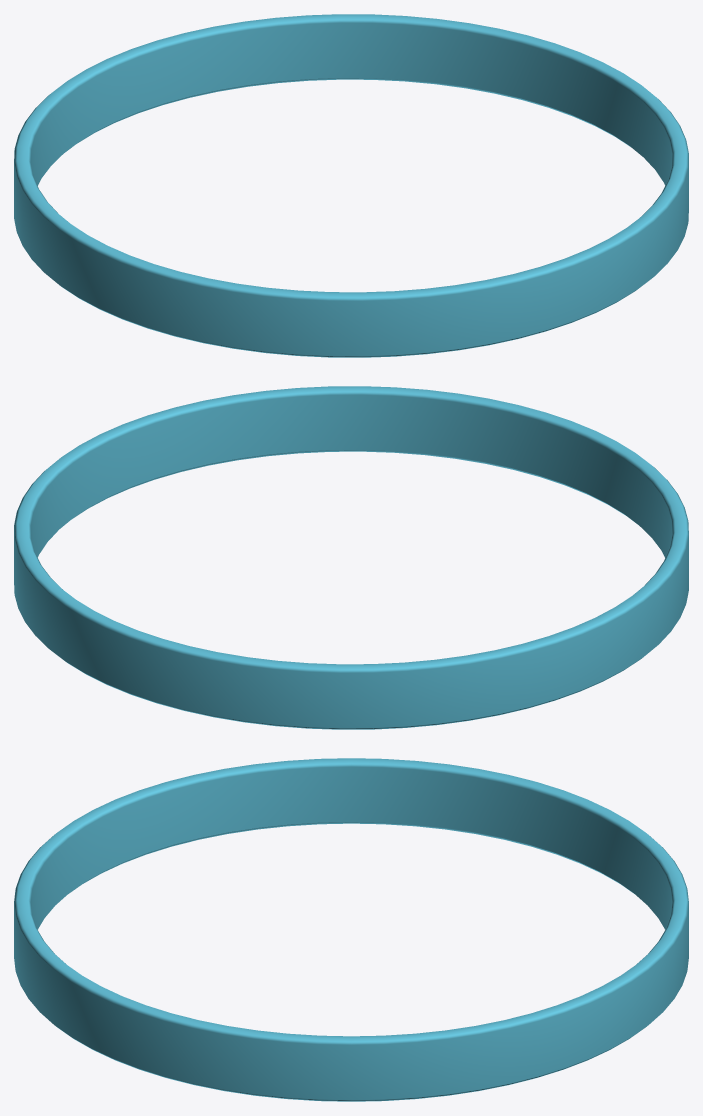
3 views of the same model, one above another, from view 1: azimuth 30°, elevation 25°; view 2: azimuth 150°, elevation 25°; view 3: azimuth 270°, elevation 25° (orthographic).
Visible parts, largest first — view 1: seal_body; view 2: seal_body; view 3: seal_body.
Boxes of the visible parts, x1,y1,x2,y2 form: seal_body: [14, 14, 688, 357]; seal_body: [14, 386, 688, 729]; seal_body: [14, 758, 688, 1101].
Bounding box in the file's own units: 0.127 × 0.0127 × 0.127.
